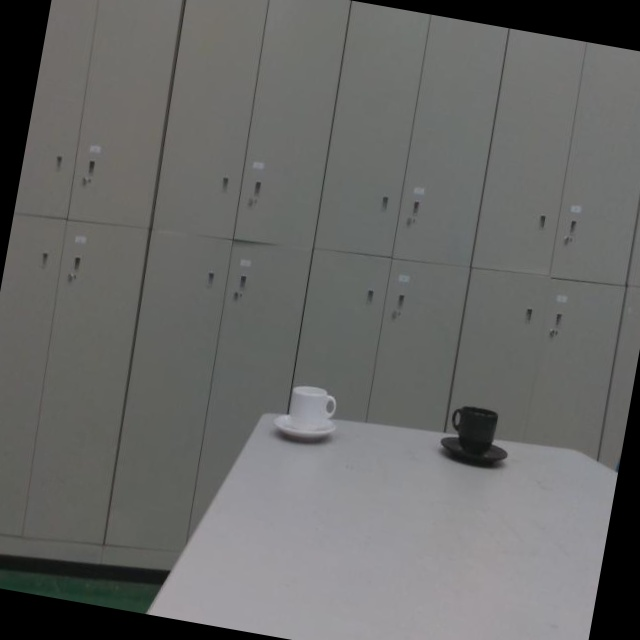black: (441, 404, 512, 466)
white: (274, 385, 341, 443)
